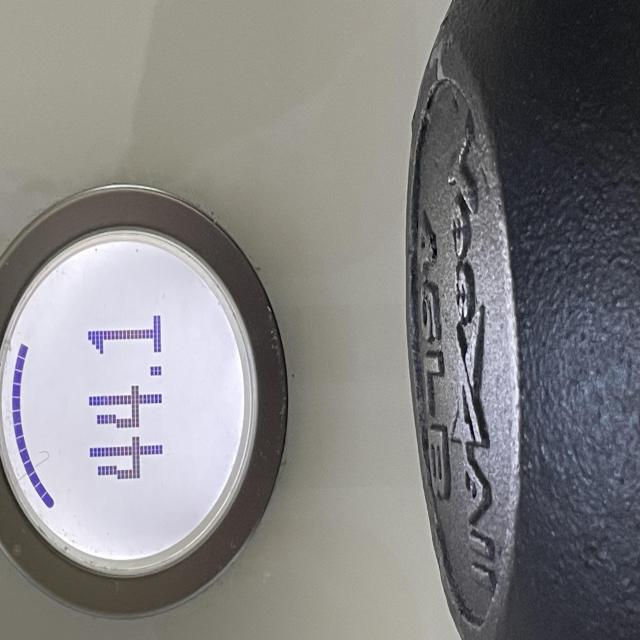ws: (0, 186, 288, 617)
